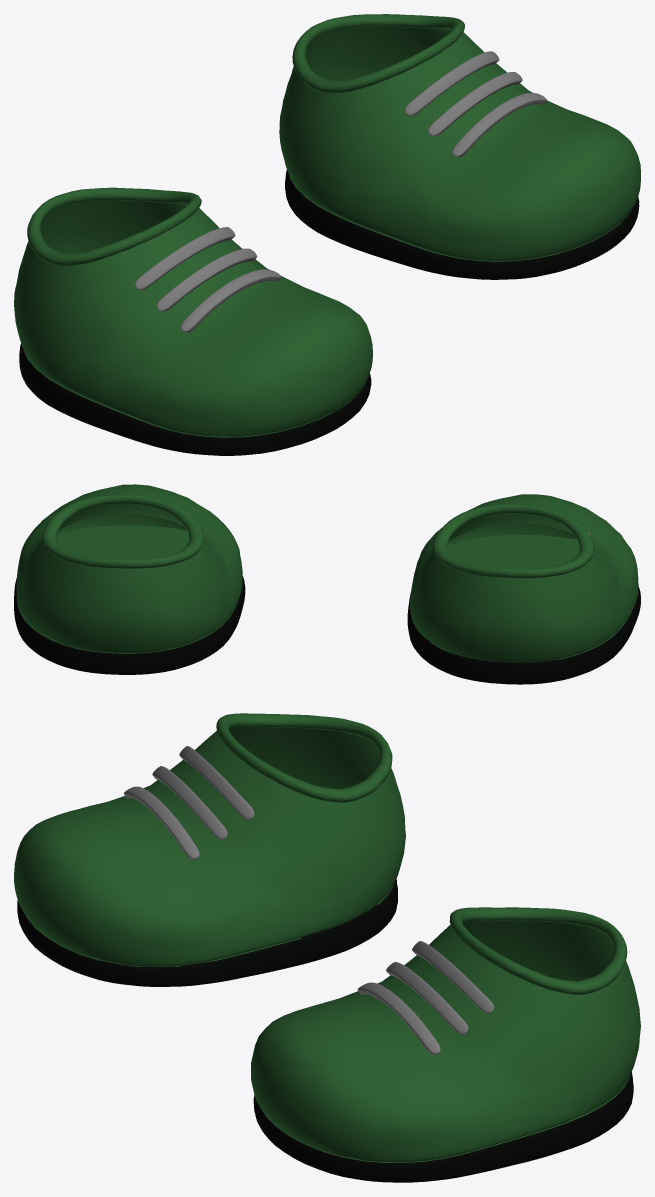
The picture shows the model from 3 angles, top to bottom: view 1: azimuth 30°, elevation 25°; view 2: azimuth 150°, elevation 25°; view 3: azimuth 270°, elevation 25°; orthographic projection. The views are drawn at different scales.
Visible parts, largest first — view 1: 321; view 2: 321; view 3: 321.
Boxes of the visible parts, box(x1,y1,x2,y2) form: 321: box(14, 14, 640, 455); 321: box(14, 484, 640, 684); 321: box(14, 713, 640, 1182).
Bounding box in the file's own units: 96 × 75.35 × 22.67.
